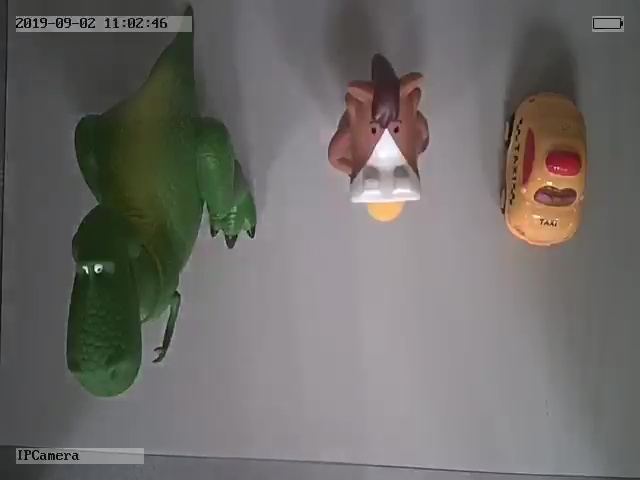car: (497, 88, 589, 248)
horse: (325, 52, 431, 223)
rex: (64, 31, 256, 400)
